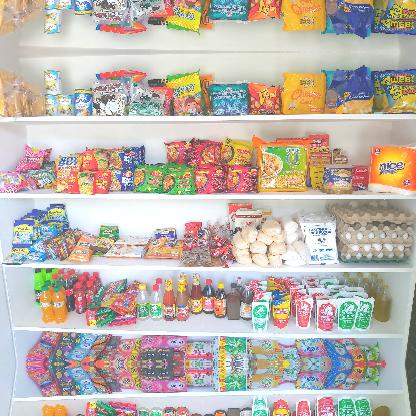Lady-s-Choice: (320, 162, 352, 193)
